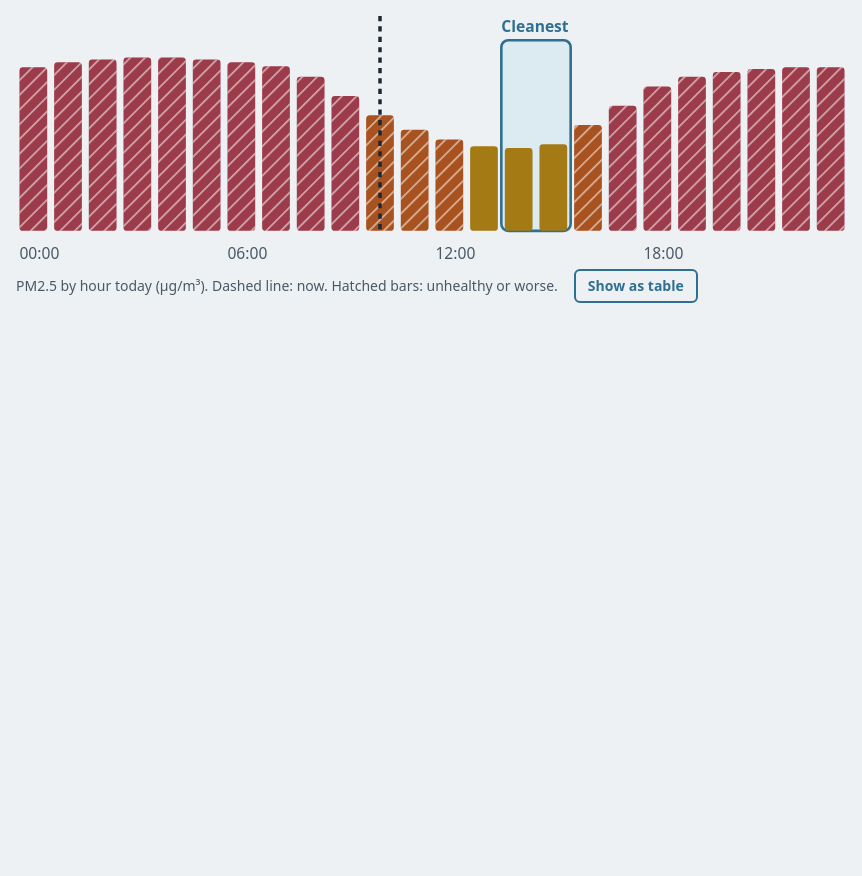
air visuals › summarises the strip and offers an equivalent table
Click the button "Show as table".
click(636, 286)  # box x1=574 y1=269 x2=698 y2=303
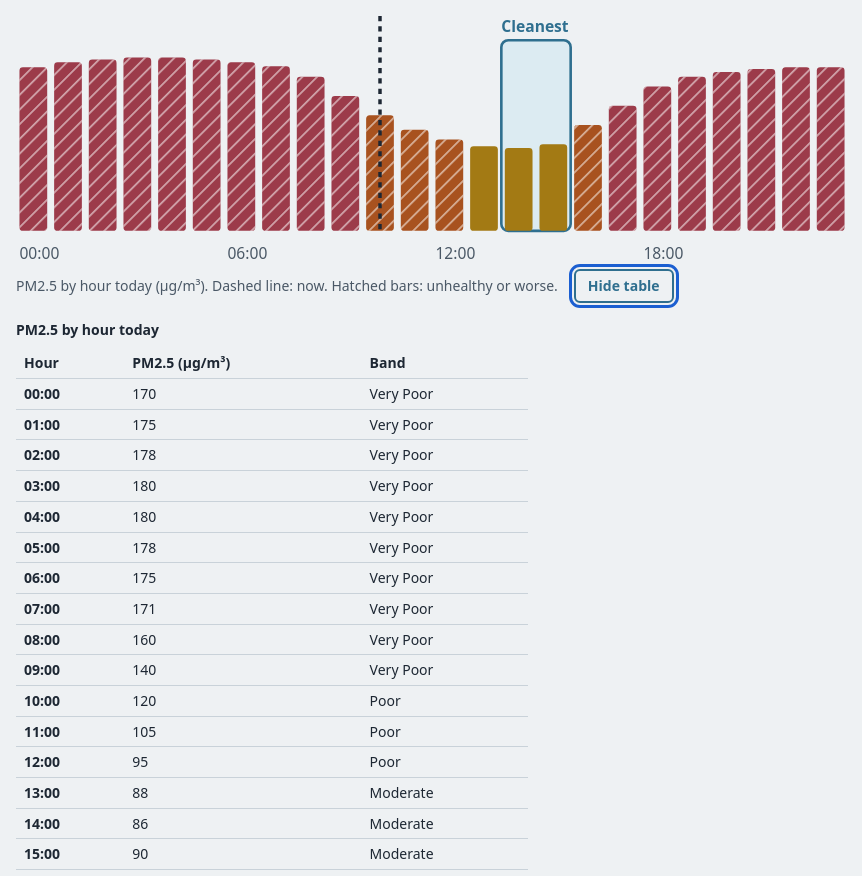
Expected: the button named "Show as table" is expanded, x1=574 y1=269 x2=674 y2=303
Expected: the number of rows is 25
Expected: the column heading "14:00" is shown, x1=16 y1=808 x2=124 y2=839
